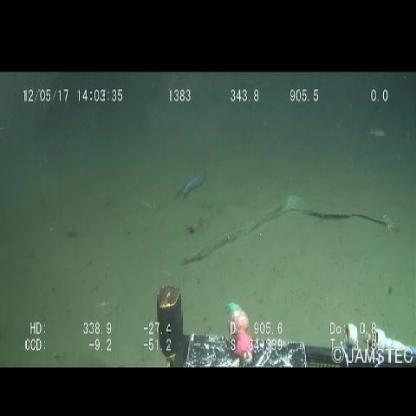Bio: (173, 168, 211, 204)
Rov: (153, 281, 416, 366)
Rác: (178, 193, 396, 277)
